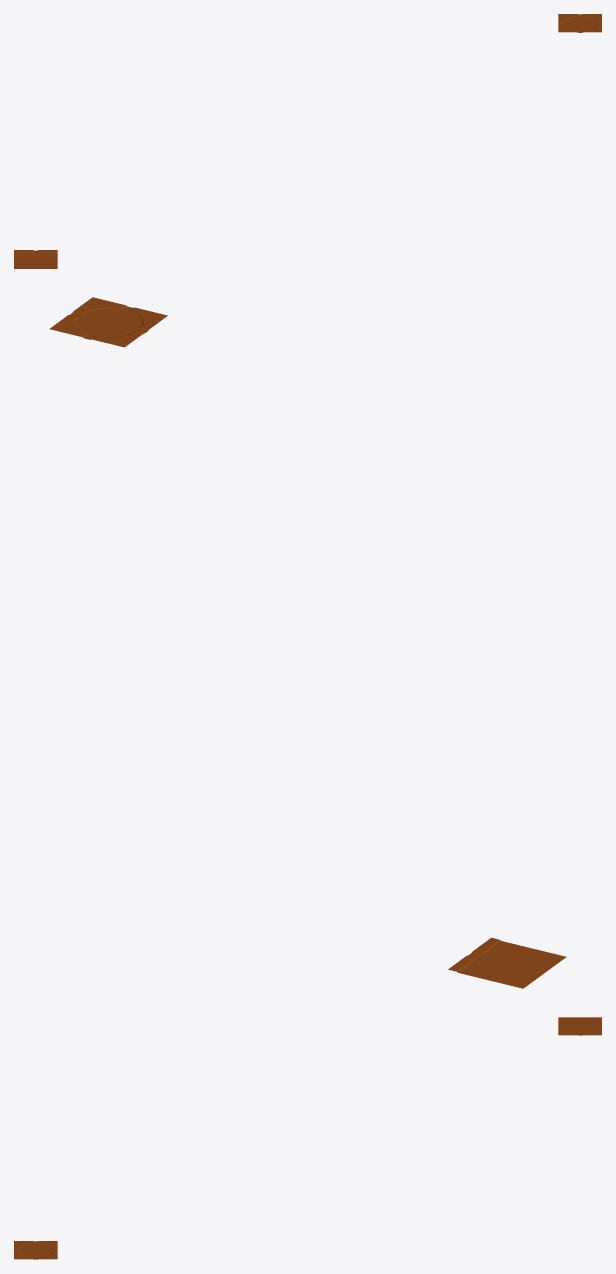
Rendered from Terrain_Part_Plane_15.glb.
3 renders of one model, top to bottom at view 1: azimuth 90°, elevation 25°; view 2: azimuth 150°, elevation 25°; view 3: azimuth 270°, elevation 25°, orthographic. The views are drawn at different scales.
Visible parts, largest first — view 1: Terrain_Part_Plane_15.002; view 2: Terrain_Part_Plane_15.002; view 3: Terrain_Part_Plane_15.002.
Boxes of the visible parts, box(x1,y1,x2,y2) form: Terrain_Part_Plane_15.002: box(14, 14, 601, 268); Terrain_Part_Plane_15.002: box(49, 297, 566, 988); Terrain_Part_Plane_15.002: box(14, 1017, 601, 1259).
Bounding box in the file's own units: 270 × 3.2 × 270.
